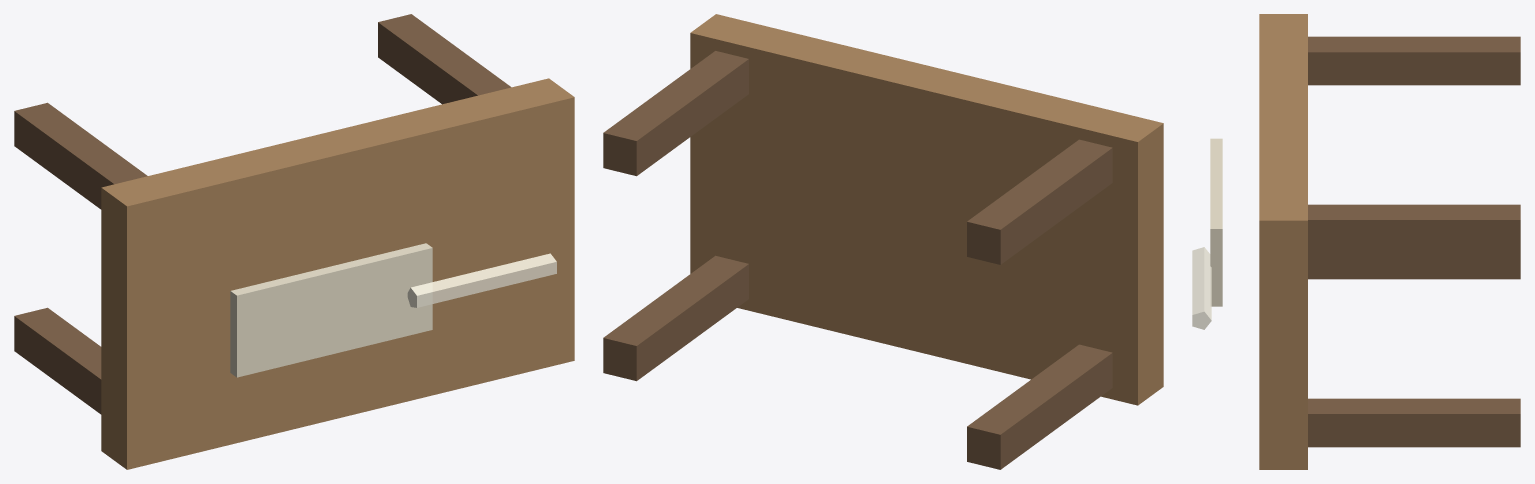
Rendered from 11_inscription_desk.glb.
3 renders of one model, left to right at view 1: azimuth 30°, elevation 25°; view 2: azimuth 150°, elevation 25°; view 3: azimuth 270°, elevation 25°, orthographic. The views are drawn at different scales.
Visible parts, largest first — view 1: table_top, scroll, leg_3, leg_4, leg_1, quill; view 2: table_top, leg_3, leg_1, leg_2, leg_4; view 3: table_top, leg_2, leg_3, leg_4, leg_1, scroll, quill.
Part boxes in pixels (x1,y1,x2,y2): table_top: [101, 78, 574, 469]; scroll: [230, 243, 432, 377]; leg_3: [14, 102, 147, 209]; leg_4: [378, 14, 511, 104]; leg_1: [14, 307, 101, 414]; quill: [407, 253, 556, 307]; table_top: [690, 14, 1163, 405]; leg_3: [967, 139, 1112, 264]; leg_1: [967, 344, 1112, 469]; leg_2: [603, 255, 748, 381]; leg_4: [603, 51, 748, 176]; table_top: [1259, 14, 1307, 469]; leg_2: [1308, 398, 1520, 447]; leg_3: [1308, 36, 1520, 85]; leg_4: [1308, 204, 1520, 253]; leg_1: [1308, 253, 1520, 279]; scroll: [1210, 138, 1222, 306]; quill: [1192, 247, 1211, 329].
Size of the model in its own units: 1.6 by 0.9 by 1.07.
